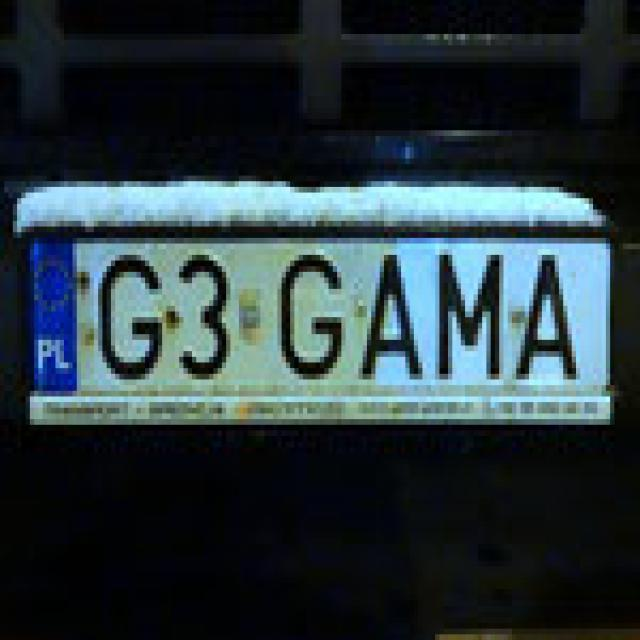pl_license_plate: (25, 232, 606, 385)
